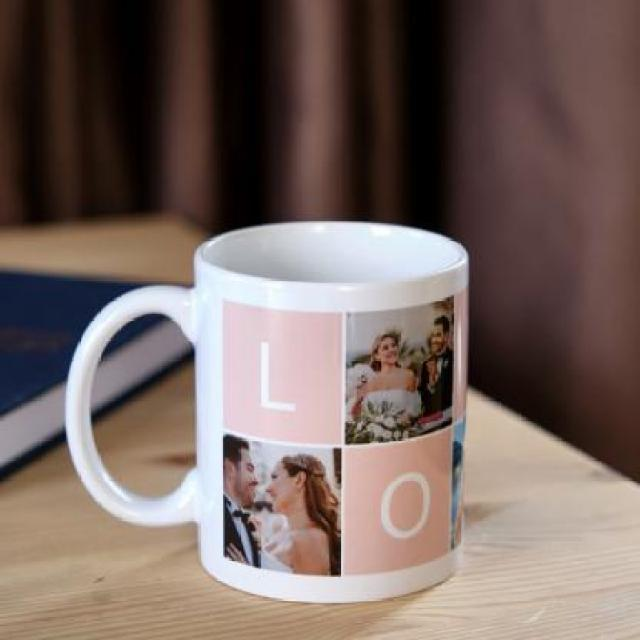taza: (58, 202, 480, 607)
